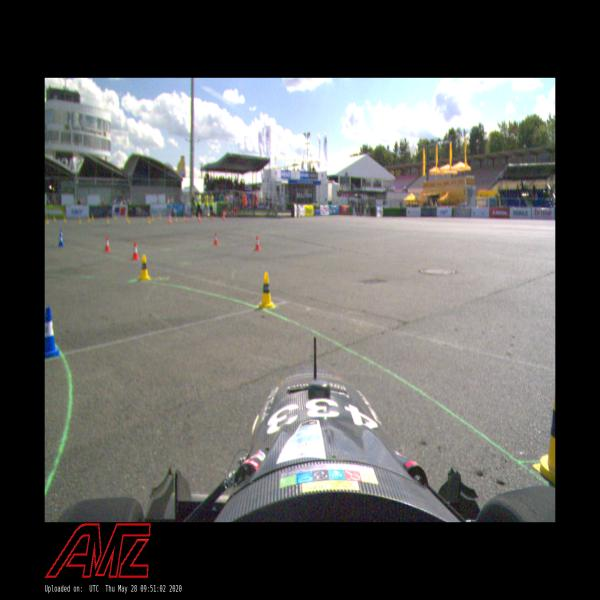blue_cone: (45, 305, 57, 360), (58, 234, 64, 247)
orange_cone: (131, 240, 139, 262), (104, 235, 112, 253), (253, 236, 261, 251), (212, 232, 219, 246)
yellow_cone: (532, 390, 555, 479), (257, 270, 275, 310), (138, 253, 150, 282)
